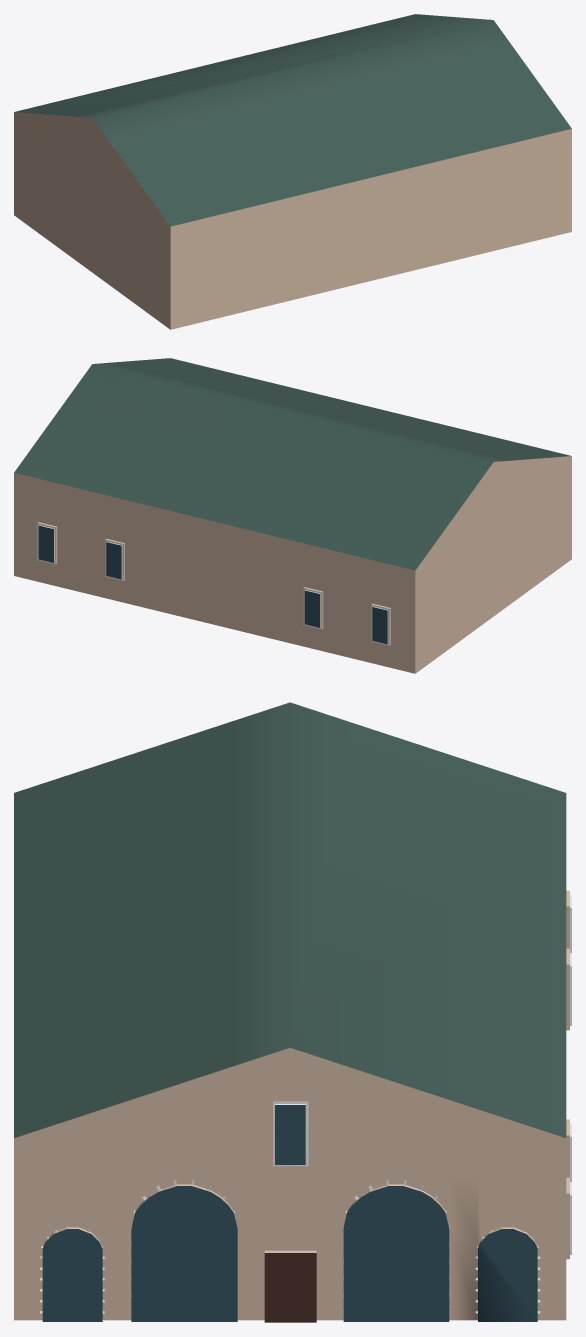
Rendered from PicduMidi_Edificio_Pieza_D_interior.fbx.
3 views of the same model, one above another, from view 1: azimuth 30°, elevation 25°; view 2: azimuth 150°, elevation 25°; view 3: azimuth 270°, elevation 25° (orthographic). The views are drawn at different scales.
Visible parts, largest first — view 1: Edificio_pieza_D_interior_; view 2: Edificio_pieza_D_interior_; view 3: Edificio_pieza_D_interior_.
Part boxes in pixels (box(x1,y1,x2,y2)): Edificio_pieza_D_interior_: box(14, 14, 571, 329); Edificio_pieza_D_interior_: box(14, 358, 571, 673); Edificio_pieza_D_interior_: box(14, 702, 571, 1322).
Size of the model in its own units: 3402 by 1244 by 2307.
